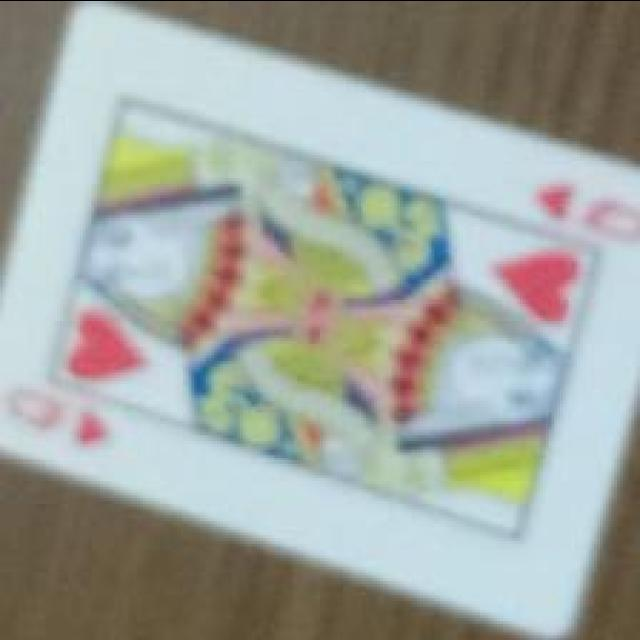Queen of hearts: (0, 0, 640, 635)
